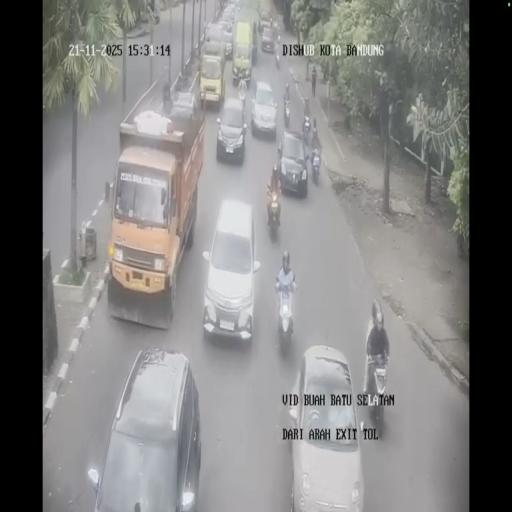car: (87, 344, 200, 509), (286, 346, 362, 510), (202, 198, 260, 342), (215, 95, 248, 163), (277, 129, 309, 197), (250, 80, 278, 138), (168, 86, 198, 122), (204, 23, 230, 61), (221, 2, 238, 26), (260, 26, 274, 53), (260, 10, 272, 31)
motorcycle: (362, 346, 389, 434), (276, 280, 295, 348), (266, 189, 282, 237), (310, 149, 320, 185), (282, 94, 290, 126), (302, 114, 311, 142), (239, 87, 247, 114), (311, 116, 318, 146), (273, 20, 280, 40), (274, 50, 280, 69)
truck: (106, 96, 204, 326), (231, 18, 255, 82)
